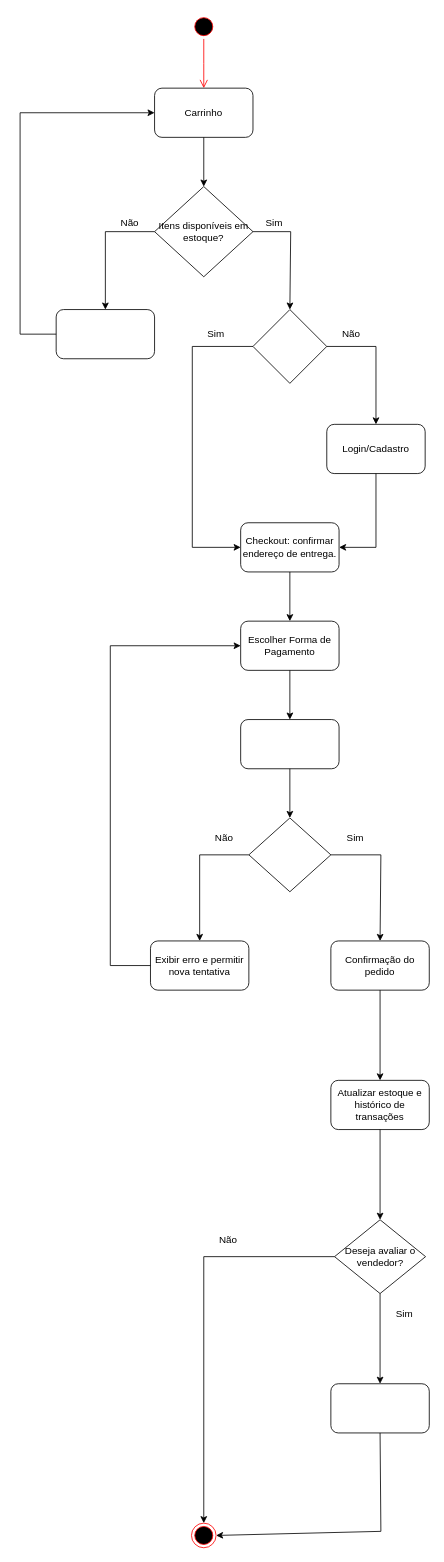
The diagram is 444 pixels wide and 1562 high, and some of its shapes have lost their labels. Here are the shapes that lost their labels. From the top down, the box of each, then its label:
(55, 309, 155, 359): Avisar indisponibilidade e remover o item.
(252, 309, 327, 383): Usuário Logado?
(240, 719, 339, 769): Processar pagamento
(248, 817, 331, 892): Pagamento aprovado?
(330, 1383, 429, 1433): Tela de avaliação: nota e comentário.
